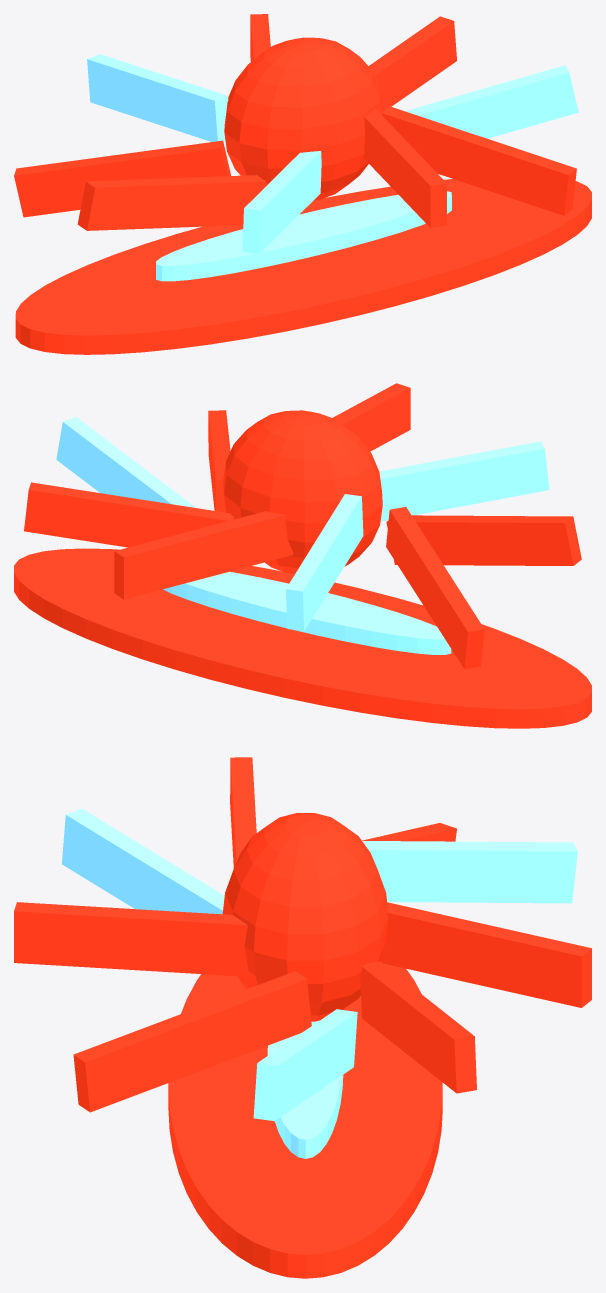
Rendered from vampiric_siphon.glb.
3 renders of one model, top to bottom at view 1: azimuth 30°, elevation 25°; view 2: azimuth 150°, elevation 25°; view 3: azimuth 270°, elevation 25°, orthographic. The views are drawn at different scales.
Parts seen in each view (by area): view 1: vampiric siphon blood halo, vampiric siphon heart, vampiric siphon inner pull, vampiric siphon stream 8, vampiric siphon stream 5, vampiric siphon stream 4, vampiric siphon stream 3, vampiric siphon stream 0, vampiric siphon stream 7, vampiric siphon stream 6, vampiric siphon stream 1, vampiric siphon stream 2; view 2: vampiric siphon blood halo, vampiric siphon heart, vampiric siphon inner pull, vampiric siphon stream 2, vampiric siphon stream 6, vampiric siphon stream 1, vampiric siphon stream 5, vampiric siphon stream 4, vampiric siphon stream 0, vampiric siphon stream 3, vampiric siphon stream 7, vampiric siphon stream 8; view 3: vampiric siphon blood halo, vampiric siphon heart, vampiric siphon stream 8, vampiric siphon stream 7, vampiric siphon stream 2, vampiric siphon stream 3, vampiric siphon stream 6, vampiric siphon stream 1, vampiric siphon stream 0, vampiric siphon inner pull, vampiric siphon stream 5, vampiric siphon stream 4.
Boxes of the visible parts, bbox=[...] form: vampiric siphon blood halo: bbox=[15, 179, 591, 354]; vampiric siphon heart: bbox=[224, 37, 383, 200]; vampiric siphon inner pull: bbox=[156, 191, 451, 281]; vampiric siphon stream 8: bbox=[383, 106, 576, 215]; vampiric siphon stream 5: bbox=[77, 175, 266, 230]; vampiric siphon stream 4: bbox=[14, 140, 230, 217]; vampiric siphon stream 3: bbox=[87, 54, 228, 141]; vampiric siphon stream 0: bbox=[373, 65, 578, 170]; vampiric siphon stream 7: bbox=[363, 108, 446, 227]; vampiric siphon stream 6: bbox=[242, 151, 321, 253]; vampiric siphon stream 1: bbox=[368, 16, 456, 110]; vampiric siphon stream 2: bbox=[250, 14, 270, 61]; vampiric siphon blood halo: bbox=[14, 548, 591, 728]; vampiric siphon heart: bbox=[223, 410, 382, 574]; vampiric siphon inner pull: bbox=[163, 571, 451, 654]; vampiric siphon stream 2: bbox=[114, 511, 293, 599]; vampiric siphon stream 6: bbox=[379, 441, 549, 521]; vampiric siphon stream 1: bbox=[24, 482, 233, 547]; vampiric siphon stream 5: bbox=[386, 515, 581, 565]; vampiric siphon stream 4: bbox=[386, 507, 484, 669]; vampiric siphon stream 0: bbox=[56, 417, 195, 507]; vampiric siphon stream 3: bbox=[285, 494, 363, 631]; vampiric siphon stream 7: bbox=[333, 383, 410, 451]; vampiric siphon stream 8: bbox=[208, 410, 230, 512]; vampiric siphon blood halo: bbox=[168, 963, 442, 1278]; vampiric siphon heart: bbox=[222, 813, 387, 1021]; vampiric siphon stream 8: bbox=[73, 971, 311, 1112]; vampiric siphon stream 7: bbox=[14, 902, 248, 976]; vampiric siphon stream 2: bbox=[379, 902, 591, 1007]; vampiric siphon stream 3: bbox=[362, 841, 577, 903]; vampiric siphon stream 6: bbox=[62, 808, 224, 914]; vampiric siphon stream 1: bbox=[360, 961, 476, 1093]; vampiric siphon stream 0: bbox=[253, 1009, 357, 1121]; vampiric siphon inner pull: bbox=[267, 1020, 343, 1158]; vampiric siphon stream 5: bbox=[230, 757, 256, 868]; vampiric siphon stream 4: bbox=[362, 823, 456, 841].
Size of the model in its own units: 0.92 by 0.36 by 0.6588.
